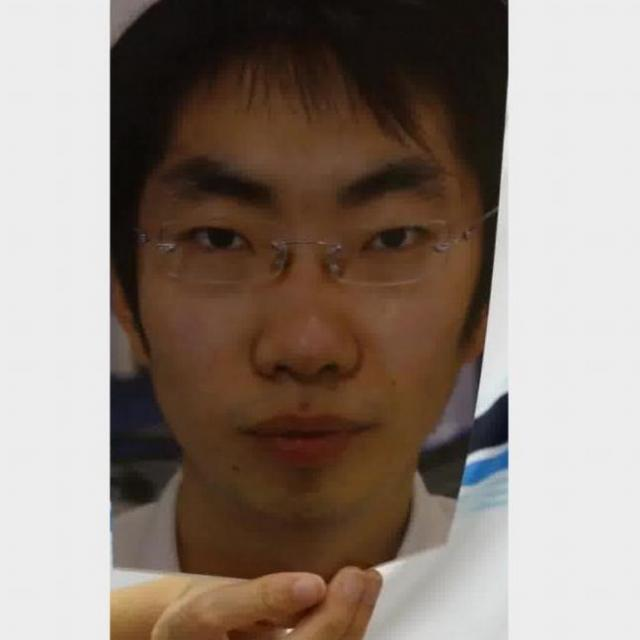photo: (110, 0, 510, 584)
